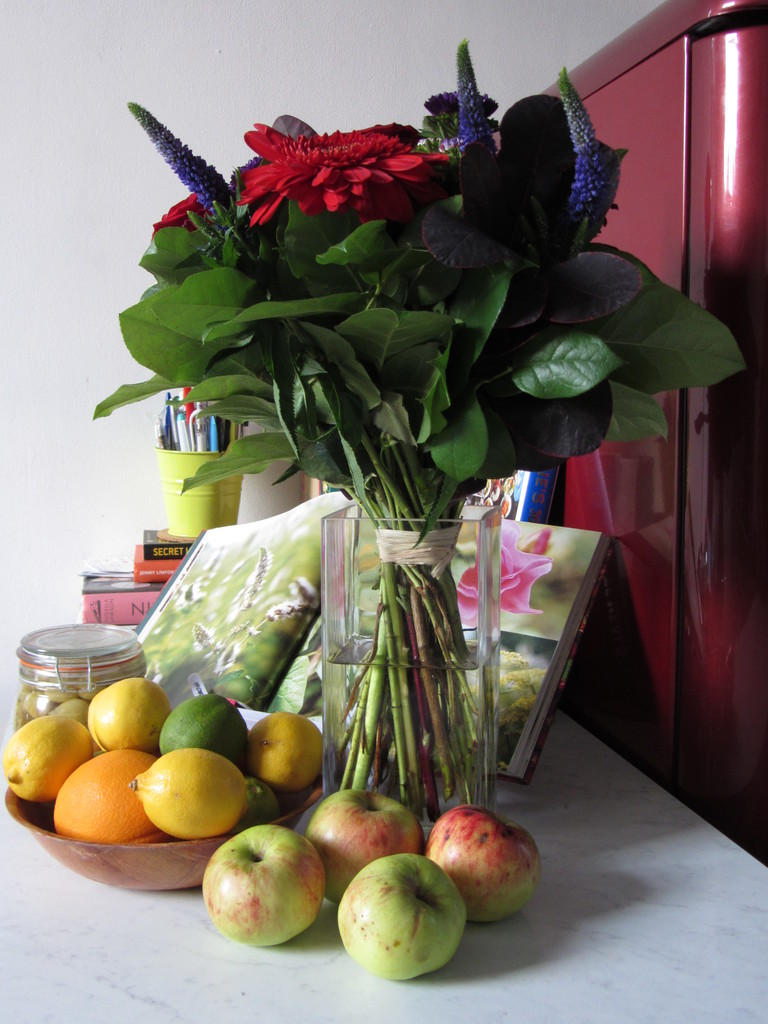Apple: (336, 855, 465, 979), (207, 819, 332, 942), (423, 805, 540, 926), (309, 787, 418, 903)
